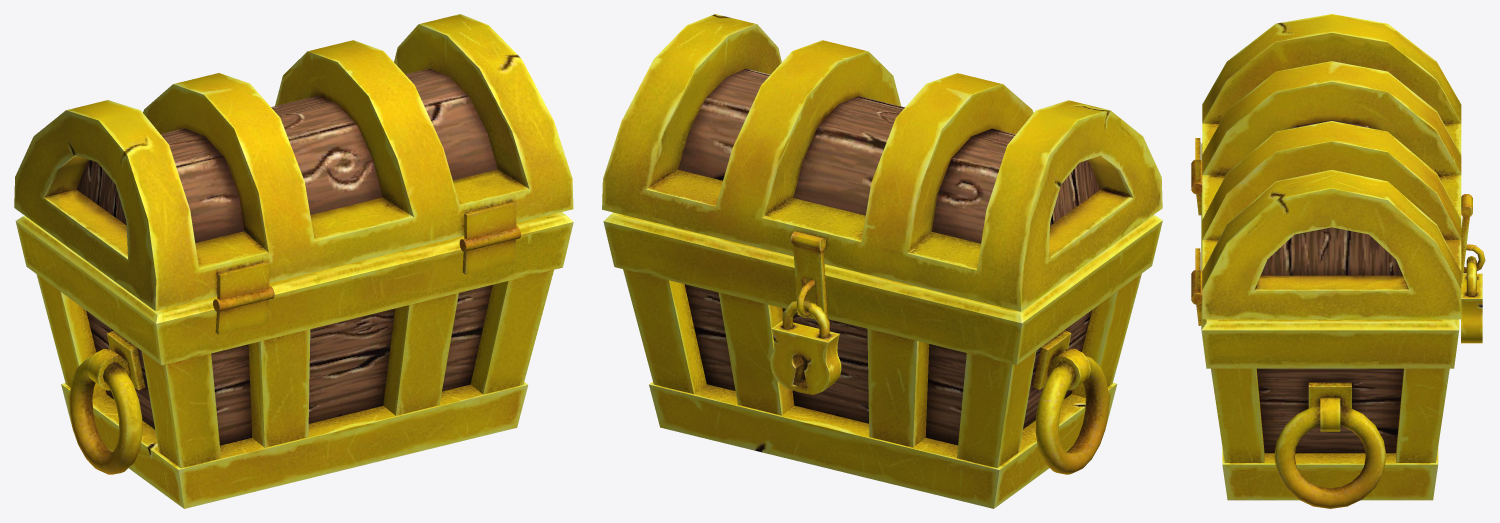
File: Treasure #58353.fbx
3 renders of one model, left to right at view 1: azimuth 30°, elevation 25°; view 2: azimuth 150°, elevation 25°; view 3: azimuth 270°, elevation 25°, orthographic. The views are drawn at different scales.
Parts seen in each view (by area): view 1: Chest, Lid; view 2: Lid, Chest, Lock; view 3: Lid, Chest, Lock.
Part boxes in pixels (bbox=[...]): Chest: bbox=[15, 201, 573, 508]; Lid: bbox=[14, 14, 573, 310]; Lid: bbox=[602, 14, 1162, 319]; Chest: bbox=[603, 212, 1162, 508]; Lock: bbox=[770, 300, 841, 394]; Lid: bbox=[1202, 14, 1472, 319]; Chest: bbox=[1191, 138, 1485, 508]; Lock: bbox=[1461, 256, 1482, 343].
Size of the model in its own units: 2.86 by 2.32 by 1.9.
